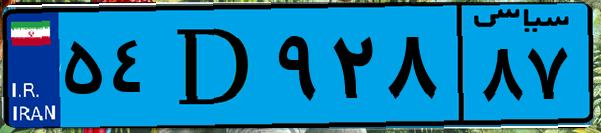2: (330, 28, 385, 110)
4: (110, 28, 158, 98)
5: (57, 26, 110, 100)
7: (525, 38, 570, 115)
8: (385, 28, 445, 110), (475, 38, 525, 113)
9: (270, 28, 330, 110)
D: (158, 12, 270, 120)
